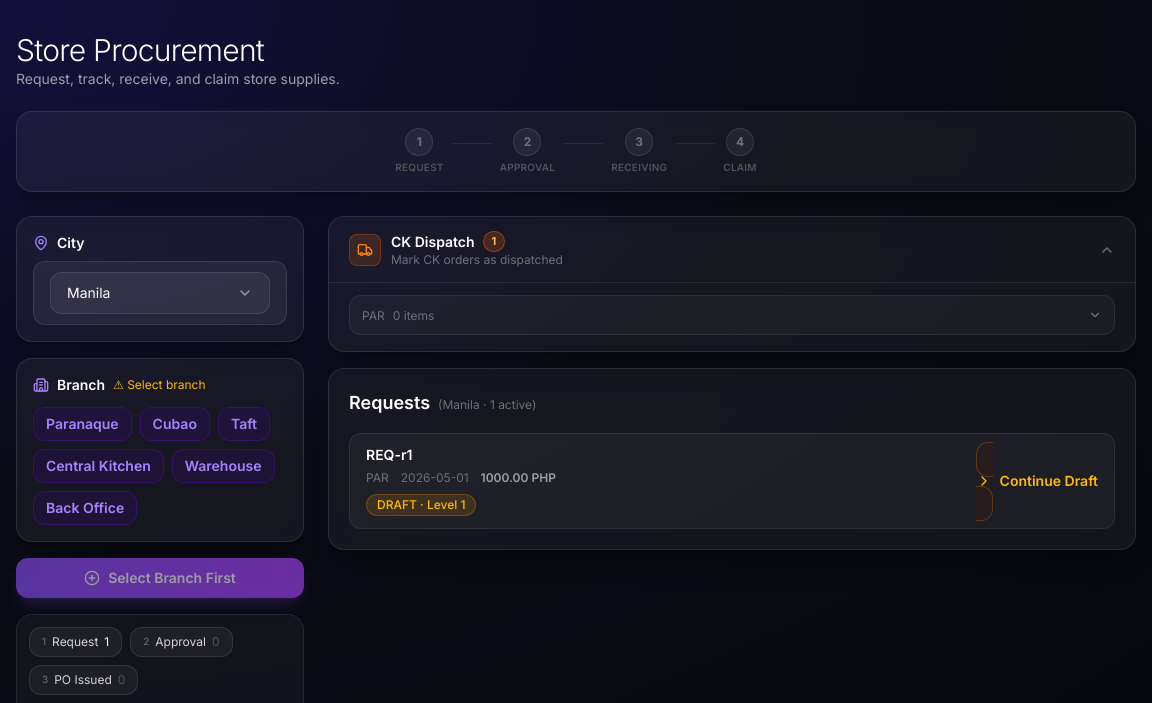
Fix 1: Drawer footer — status-aware footer buttons › DRAFT → footer shows 'Continue Draft' link pointing to /request?edit=
This screenshot has width=1152, height=703.
Click the text "REQ-r1" at (389, 455), box [366,446,412,464]
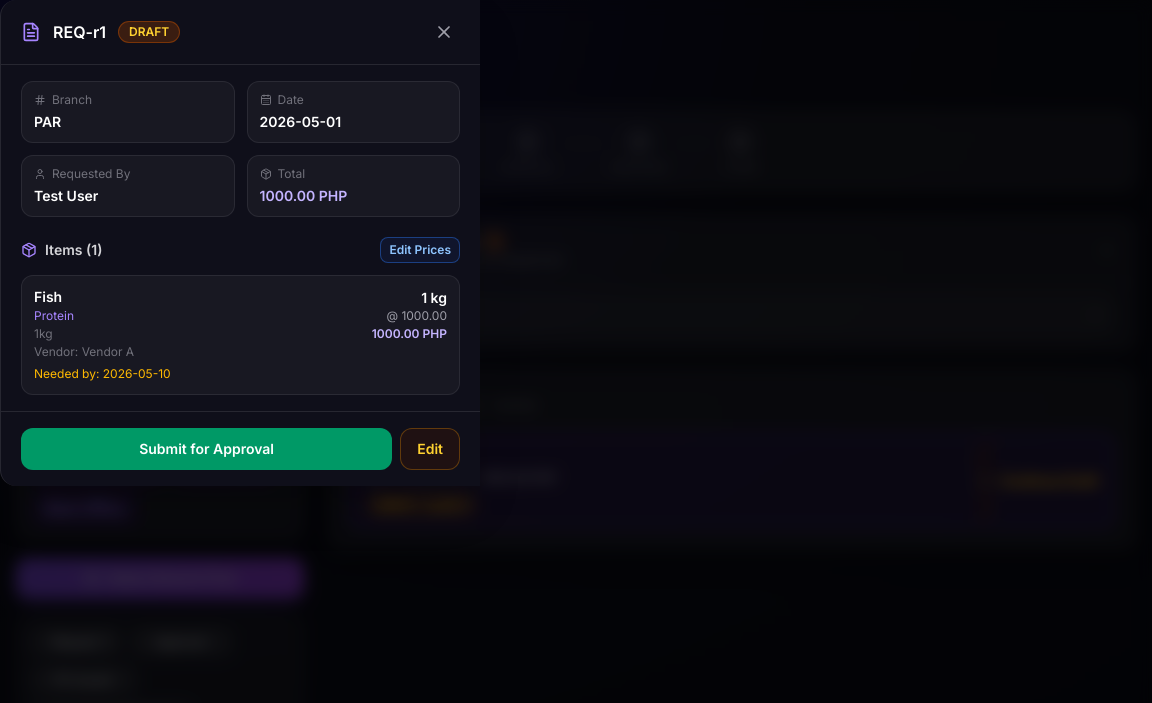
expect the text "Test User" is shown: met, box [34,187,98,204]
